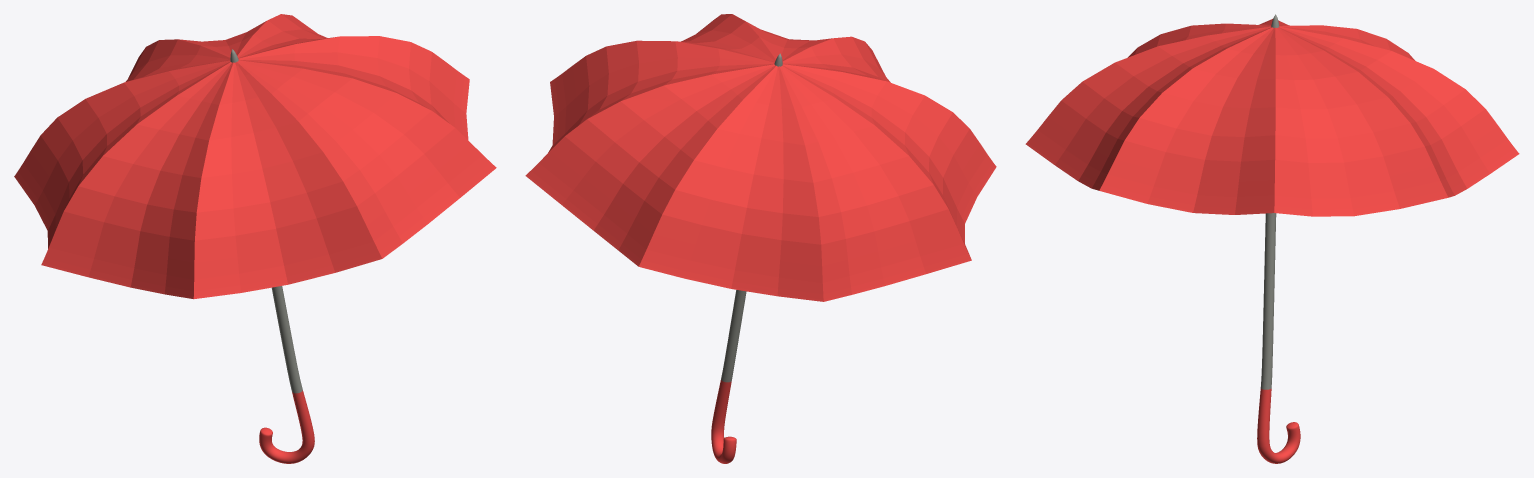
3 renders of one model, left to right at view 1: azimuth 30°, elevation 25°; view 2: azimuth 150°, elevation 25°; view 3: azimuth 270°, elevation 25°, orthographic. The views are drawn at different scales.
Visible parts, largest first — view 1: umbrella.006_red_0.001, umbrella.006; view 2: umbrella.006_red_0.001, umbrella.006; view 3: umbrella.006_red_0.001, umbrella.006.
Part boxes in pixels (<box>): umbrella.006_red_0.001: <box>14,14,496,299</box>; umbrella.006: <box>230,49,314,463</box>; umbrella.006_red_0.001: <box>525,14,996,301</box>; umbrella.006: <box>711,53,782,463</box>; umbrella.006_red_0.001: <box>1025,19,1519,216</box>; umbrella.006: <box>1257,14,1300,463</box>.
Bounding box in the file's own units: 1.78 × 1.7 × 1.81.
